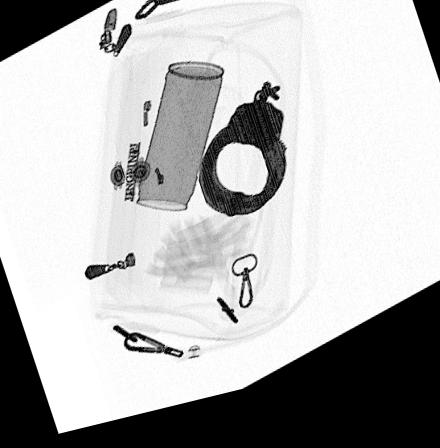HandCuffs: (197, 92, 289, 230)
